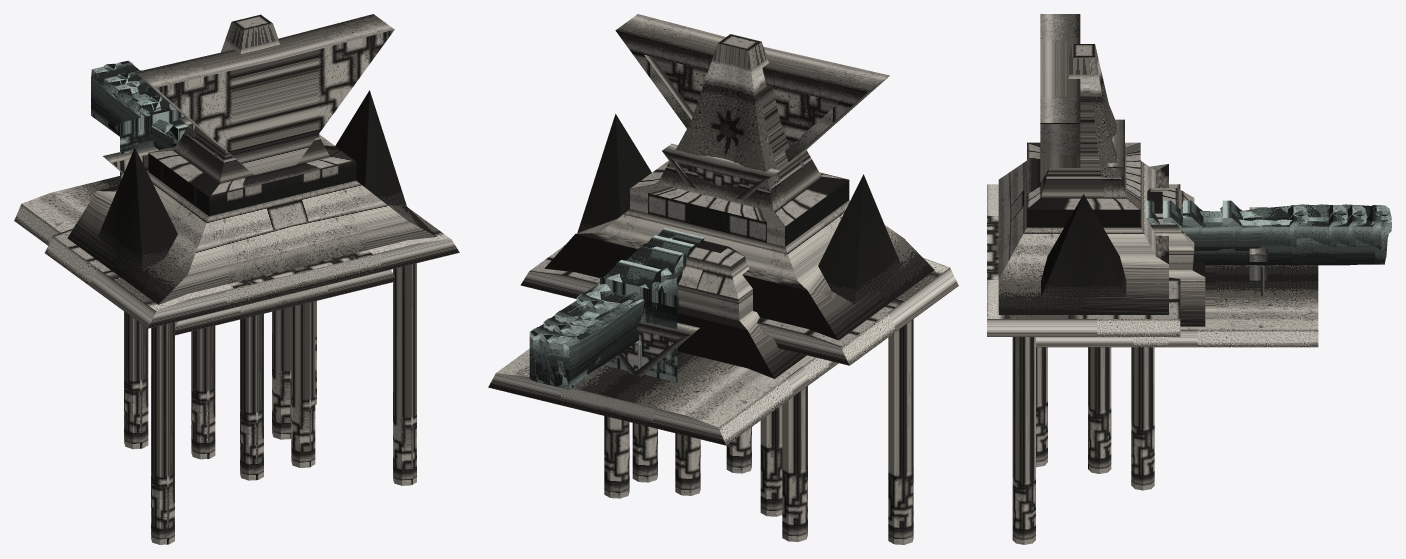
The model's file is ModularAssets_ZnTutorial.fbx.
The picture shows the model from 3 angles, left to right: view 1: azimuth 30°, elevation 25°; view 2: azimuth 150°, elevation 25°; view 3: azimuth 270°, elevation 25°; orthographic projection. The views are drawn at different scales.
Visible parts, largest first — view 1: altar.learn.power1, altar.activate.power1, 1widthplatform.6.up, plano2x2.001, 1widthplatform.4.up, triangle.block.power1; view 2: altar.learn.power1, altar.activate.power1, 1widthplatform.6.up, triangle.block.power1, plano2x2.001, 1widthplatform.4.up, 1heightnwidthplatform.6, 1heightnwidthplatform.4, 1widthplatform.5.up, 1heightnwidthplatform.2, 1widthplatform.2.up, plano1x1.back (+1 smaller); view 3: altar.learn.power1, altar.activate.power1, 1heightnwidthplatform.6, 1widthplatform.4.up, 1widthplatform.2.up, 1widthplatform.5.up, 1heightnwidthplatform.2, 1widthplatform.6.up, triangle.block.power1, 1heightnwidthplatform.5.
Boxes of the visible parts, <box> form: altar.learn.power1: <box>45,14,459,544</box>; altar.activate.power1: <box>14,116,394,335</box>; 1widthplatform.6.up: <box>91,61,180,140</box>; plano2x2.001: <box>120,109,183,172</box>; 1widthplatform.4.up: <box>117,85,179,149</box>; triangle.block.power1: <box>103,147,158,173</box>; altar.learn.power1: <box>520,14,958,544</box>; altar.activate.power1: <box>488,143,838,445</box>; 1widthplatform.6.up: <box>530,231,674,389</box>; triangle.block.power1: <box>617,321,699,376</box>; plano2x2.001: <box>600,277,677,376</box>; 1widthplatform.4.up: <box>559,244,682,326</box>; 1heightnwidthplatform.6: <box>529,228,699,386</box>; 1heightnwidthplatform.4: <box>555,254,683,366</box>; 1widthplatform.5.up: <box>544,239,686,375</box>; 1heightnwidthplatform.2: <box>576,260,659,314</box>; 1widthplatform.2.up: <box>578,264,660,314</box>; plano1x1.back: <box>642,300,677,348</box>; altar.learn.power1: <box>987,14,1180,544</box>; altar.activate.power1: <box>1036,119,1318,347</box>; 1heightnwidthplatform.6: <box>1145,202,1391,265</box>; 1widthplatform.4.up: <box>1183,204,1347,250</box>; 1widthplatform.2.up: <box>1229,205,1307,250</box>; 1widthplatform.5.up: <box>1170,204,1366,250</box>; 1heightnwidthplatform.2: <box>1222,201,1308,265</box>; 1widthplatform.6.up: <box>1151,204,1391,264</box>; triangle.block.power1: <box>1249,207,1267,280</box>; 1heightnwidthplatform.5: <box>1163,201,1367,265</box>.
Bounding box in the file's own units: 850 × 1210 × 1022.
